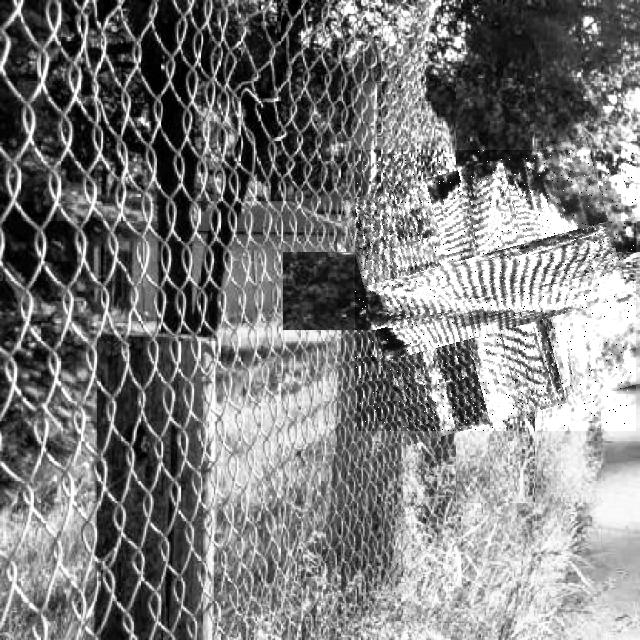anomaly-fence: (355, 150, 636, 431)
